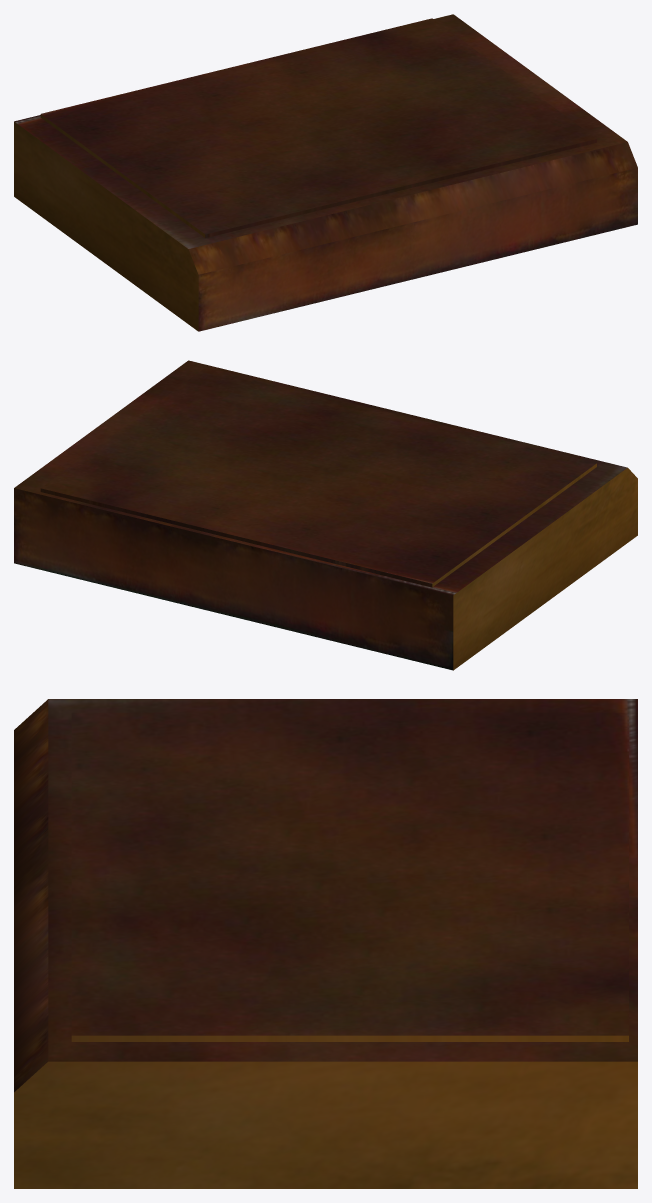
File: hatch_cover_001.obj
3 views of the same model, one above another, from view 1: azimuth 30°, elevation 25°; view 2: azimuth 150°, elevation 25°; view 3: azimuth 270°, elevation 25° (orthographic). The views are drawn at different scales.
Parts seen in each view (by area): view 1: Hatch_001_Cube.002; view 2: Hatch_001_Cube.002; view 3: Hatch_001_Cube.002.
Boxes of the visible parts, left/top/right/bottom form: Hatch_001_Cube.002: left=14, top=14, right=637, bottom=331; Hatch_001_Cube.002: left=14, top=360, right=637, bottom=670; Hatch_001_Cube.002: left=14, top=699, right=637, bottom=1188.
Bounding box in the file's own units: 0.3765 × 0.0646 × 0.2739.
1 material, 1 textured.
